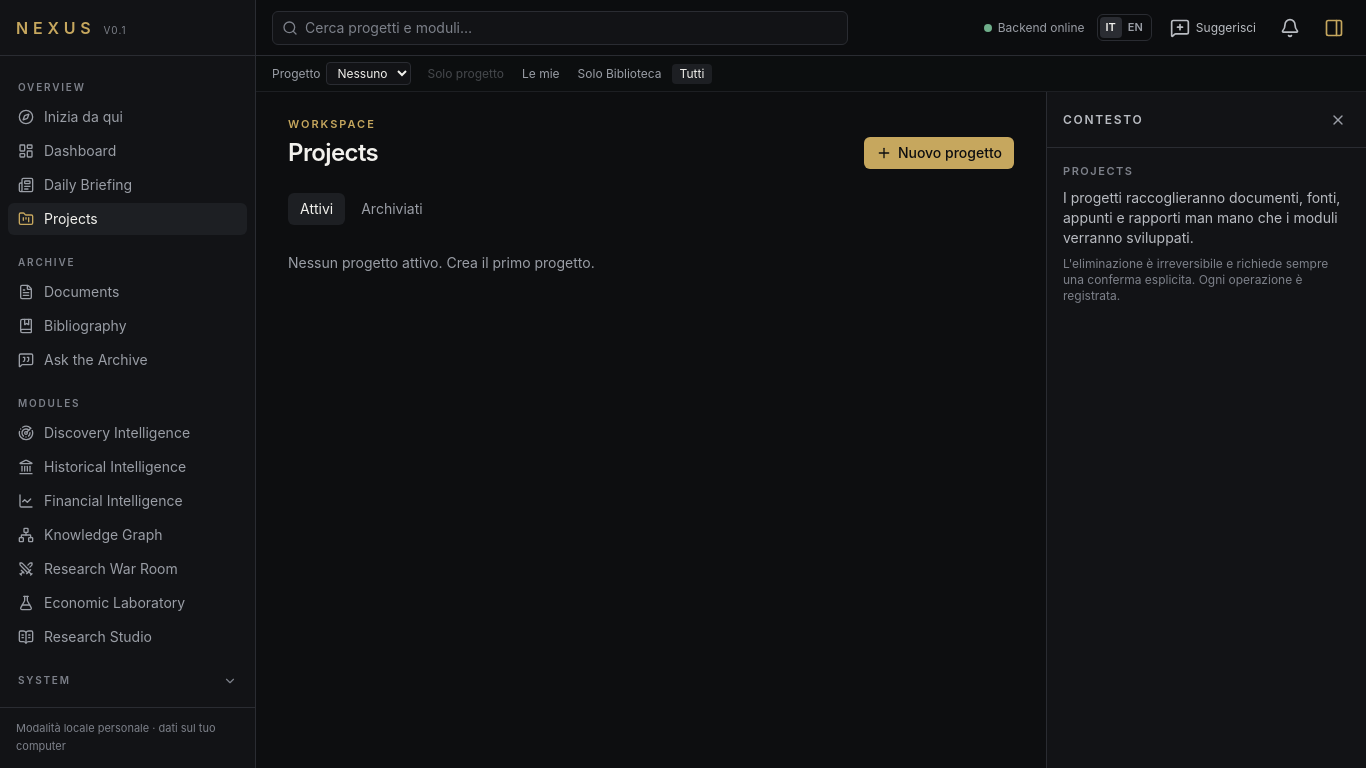
it: Projects page › creates a project and reloads the list
The width and height of the screenshot is (1366, 768).
Expected: the text "Nessun progetto attivo. Crea il primo progetto." is shown, [288,254,595,270]
Click the button "Nuovo progetto": (939, 152) [864,136,1014,168]
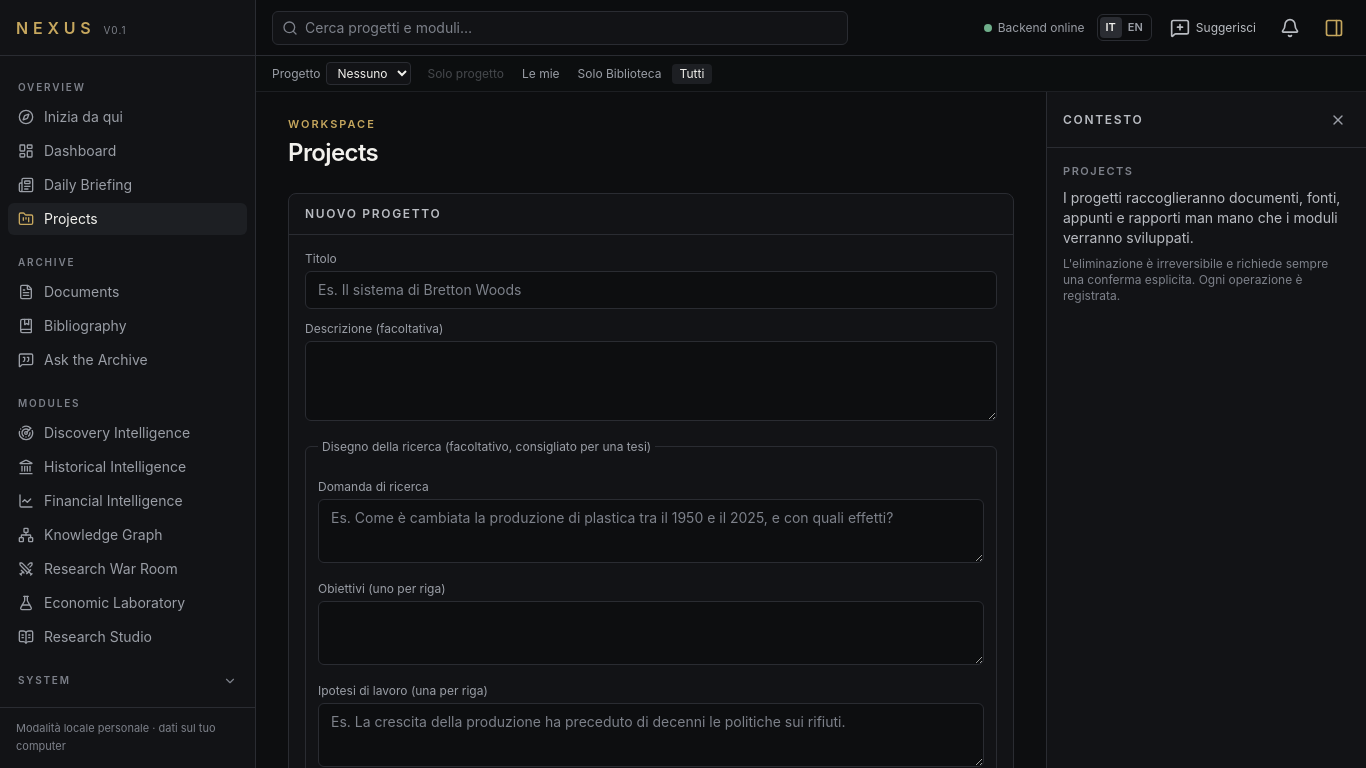
In the field labelled "Titolo": (651, 290) [305,270,997,308], type "Debito pubblico"
(page scrolled)
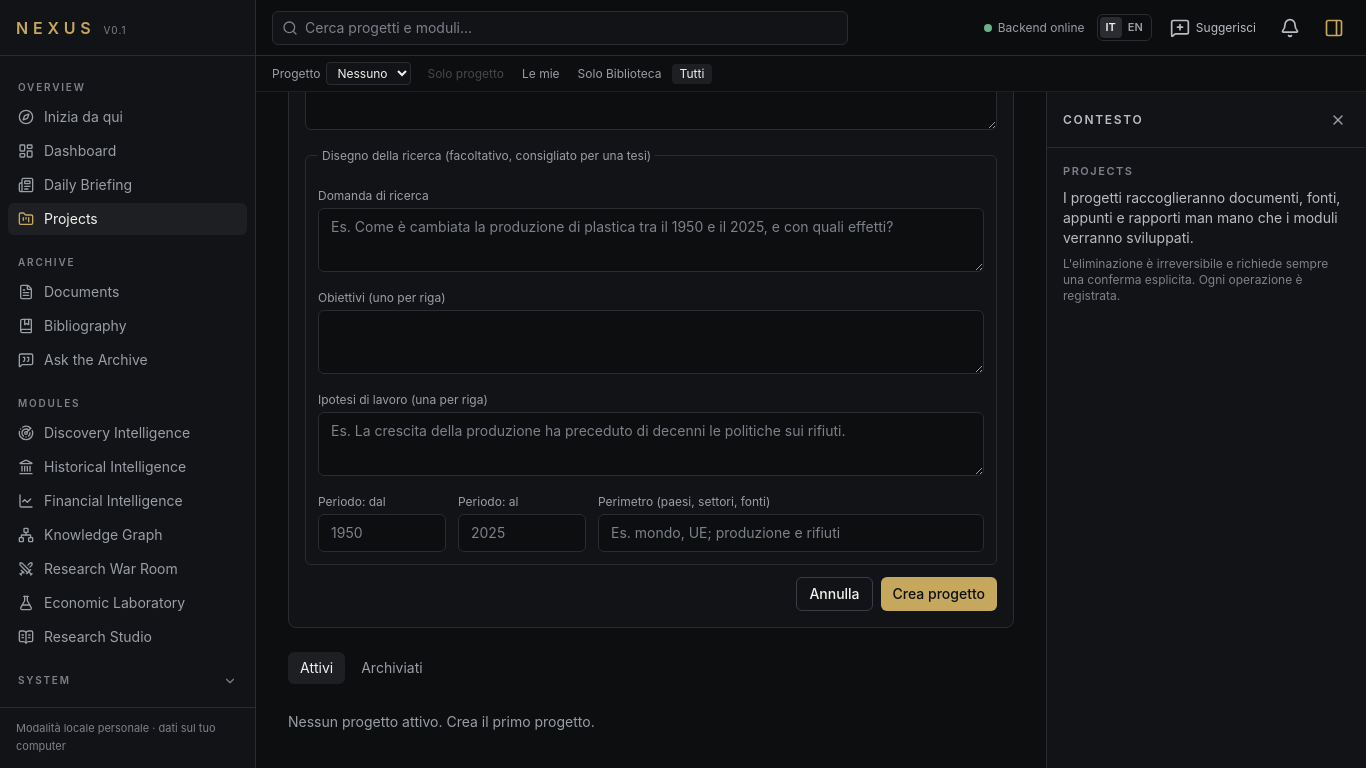
Click the button "Crea progetto": (939, 594) [881,576,997,610]
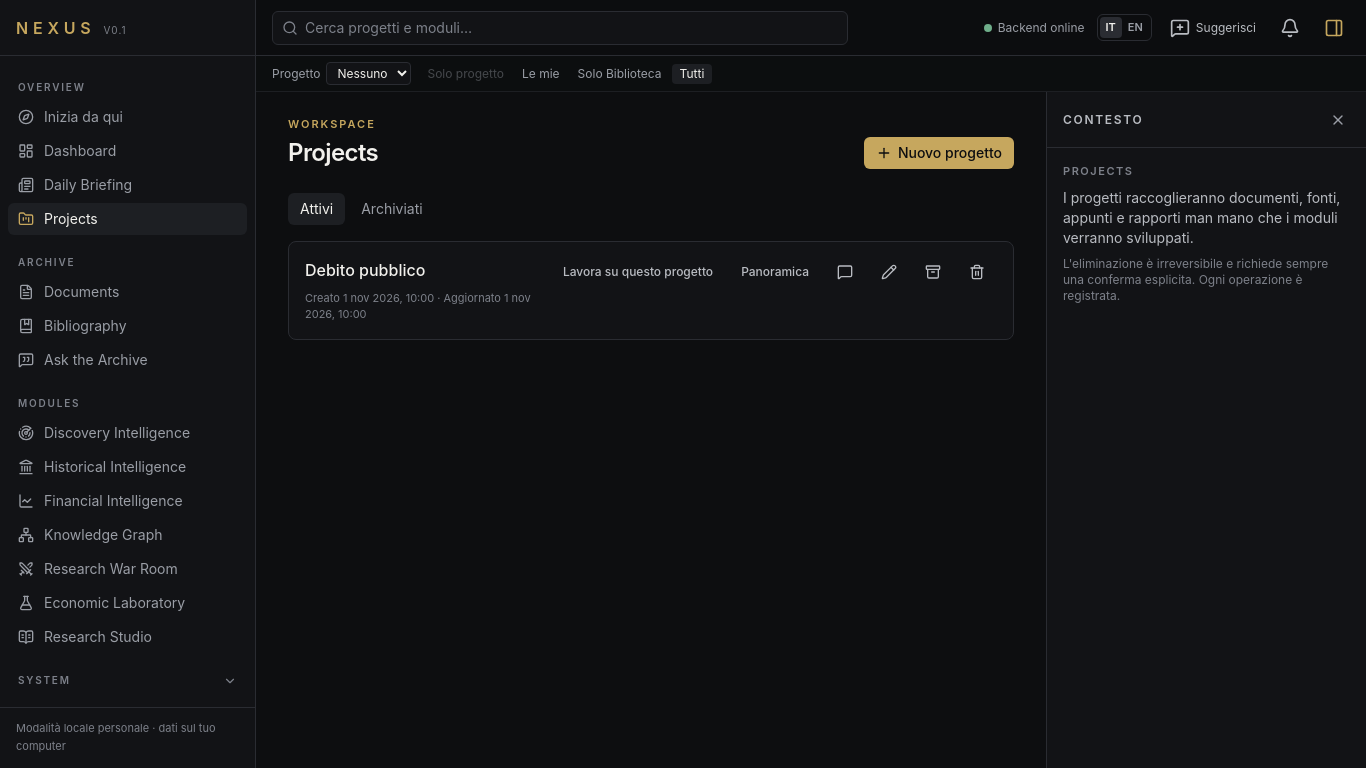
Expected: the heading "Debito pubblico" is shown, [305,258,425,282]
